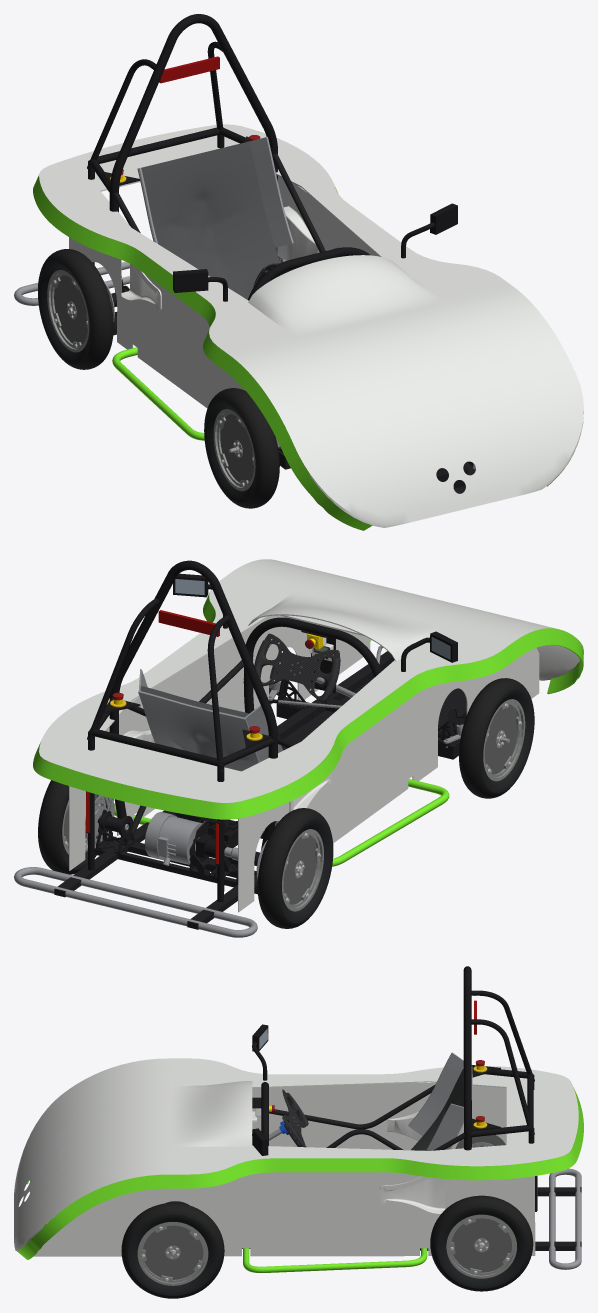
File: eusk26-menditech.glb
The picture shows the model from 3 angles, top to bottom: view 1: azimuth 30°, elevation 25°; view 2: azimuth 150°, elevation 25°; view 3: azimuth 270°, elevation 25°; orthographic projection. The views are drawn at different scales.
Parts seen in each view (by area): view 1: KARROZERIA_AZALA, WHEEL_LF_GEO, SEAT_PAD_BACK, 01_main_ARC_v0r1, KARROZERIA_PERFIL, DIR_BIELETA_L, KARROZERIA_NACA_L, RETROVISOR_CARCASA_L, 09_lateral_lower_v0r1, BARRA_LATERAL_L, brakeLight; view 2: KARROZERIA_AZALA, WHEEL_LF_GEO, KARROZERIA_PERFIL, 01_main_ARC_v0r1, 09_lateral_lower_v0r1, DIR_BIELETA_L, PARACHOQUES_TRAS, STEER_HR_GEO, DIR_CASQUILLO_ABAJO, BARRA_LATERAL_L, RETROVISOR_CARCASA_L, KARROZERIA_NACA_L (+4 smaller); view 3: KARROZERIA_AZALA, WHEEL_LF_GEO, KARROZERIA_PERFIL, 01_main_ARC_v0r1, DIR_BIELETA_L, KARROZERIA_NACA_L, 09_lateral_lower_v0r1, PARACHOQUES_TRAS, BARRA_LATERAL_L, SEAT_PAD_BACK, STEER_HR_GEO, RETROVISOR_CARCASA_L (+1 smaller).
Boxes of the visible parts, x1,y1,x2,y2 form: KARROZERIA_AZALA: (39,124,583,527); WHEEL_LF_GEO: (38,249,279,508); SEAT_PAD_BACK: (141,141,280,299); 01_main_ARC_v0r1: (87,14,370,300); KARROZERIA_PERFIL: (33,124,574,530); DIR_BIELETA_L: (103,137,293,452); KARROZERIA_NACA_L: (118,206,325,311); RETROVISOR_CARCASA_L: (173,203,457,301); 09_lateral_lower_v0r1: (111,153,475,493); BARRA_LATERAL_L: (112,347,204,440); brakeLight: (159,56,219,83); KARROZERIA_AZALA: (39,559,583,912); WHEEL_LF_GEO: (38,663,534,928); KARROZERIA_PERFIL: (33,593,583,819); 01_main_ARC_v0r1: (87,560,381,901); 09_lateral_lower_v0r1: (54,651,466,929); DIR_BIELETA_L: (85,669,509,879); PARACHOQUES_TRAS: (14,867,257,937); STEER_HR_GEO: (254,633,340,702); DIR_CASQUILLO_ABAJO: (86,630,464,865); BARRA_LATERAL_L: (114,779,449,866); RETROVISOR_CARCASA_L: (173,573,457,671); KARROZERIA_NACA_L: (123,730,332,822); KARROZERIA_AZALA: (14,1058,578,1256); WHEEL_LF_GEO: (121,1135,533,1298); KARROZERIA_PERFIL: (17,1058,583,1259); 01_main_ARC_v0r1: (261,966,534,1150); DIR_BIELETA_L: (170,1052,493,1257); KARROZERIA_NACA_L: (379,1112,450,1218); 09_lateral_lower_v0r1: (165,1084,581,1250); PARACHOQUES_TRAS: (549,1168,581,1269); BARRA_LATERAL_L: (243,1248,427,1273); SEAT_PAD_BACK: (411,1068,463,1150); STEER_HR_GEO: (282,1089,308,1147); RETROVISOR_CARCASA_L: (252,1024,268,1155).
Size of the model in its own units: 1.09 by 1.17 by 2.18.
21 materials, 5 textured.
